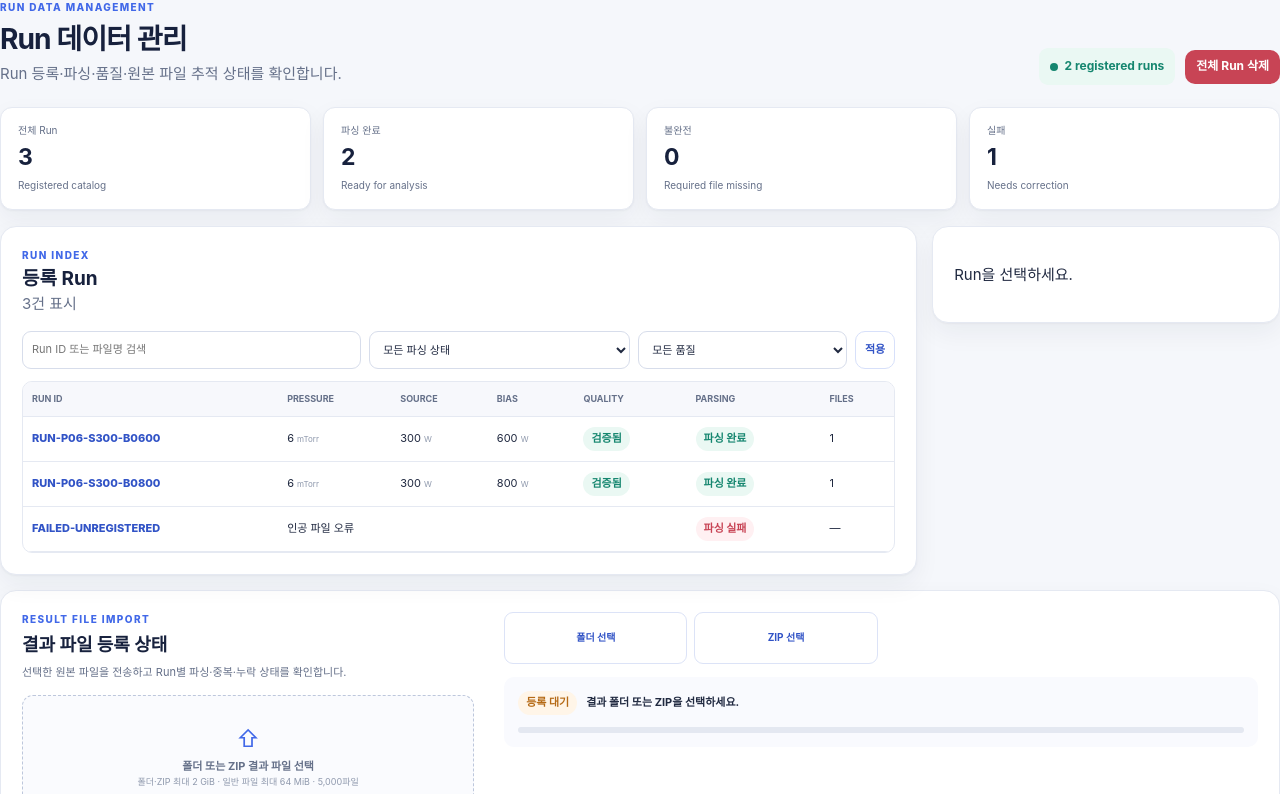
Test case: all deletion confirms the unfiltered registered count and excludes failed unregistered jobs from its payload
Expected: the button "RUN-P06-S300-B0600" is shown, top-left (32, 430), bottom-right (160, 447)
Type "NO-MATCH" into the field named "Run 또는 파일 검색" at {"x": 192, "y": 350}, box top-left (22, 331), bottom-right (361, 369)
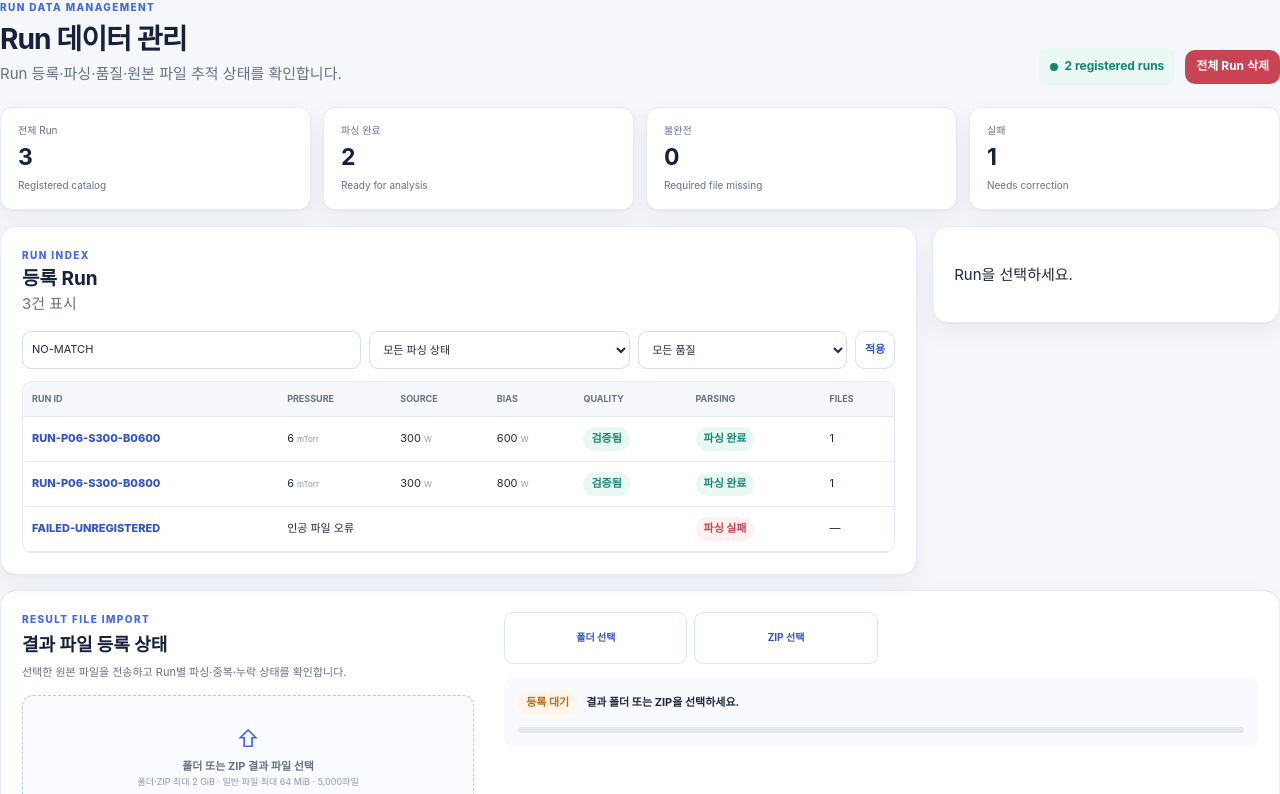
Submit the form with id "catalog-filter-form", box top-left (22, 331), bottom-right (895, 369)
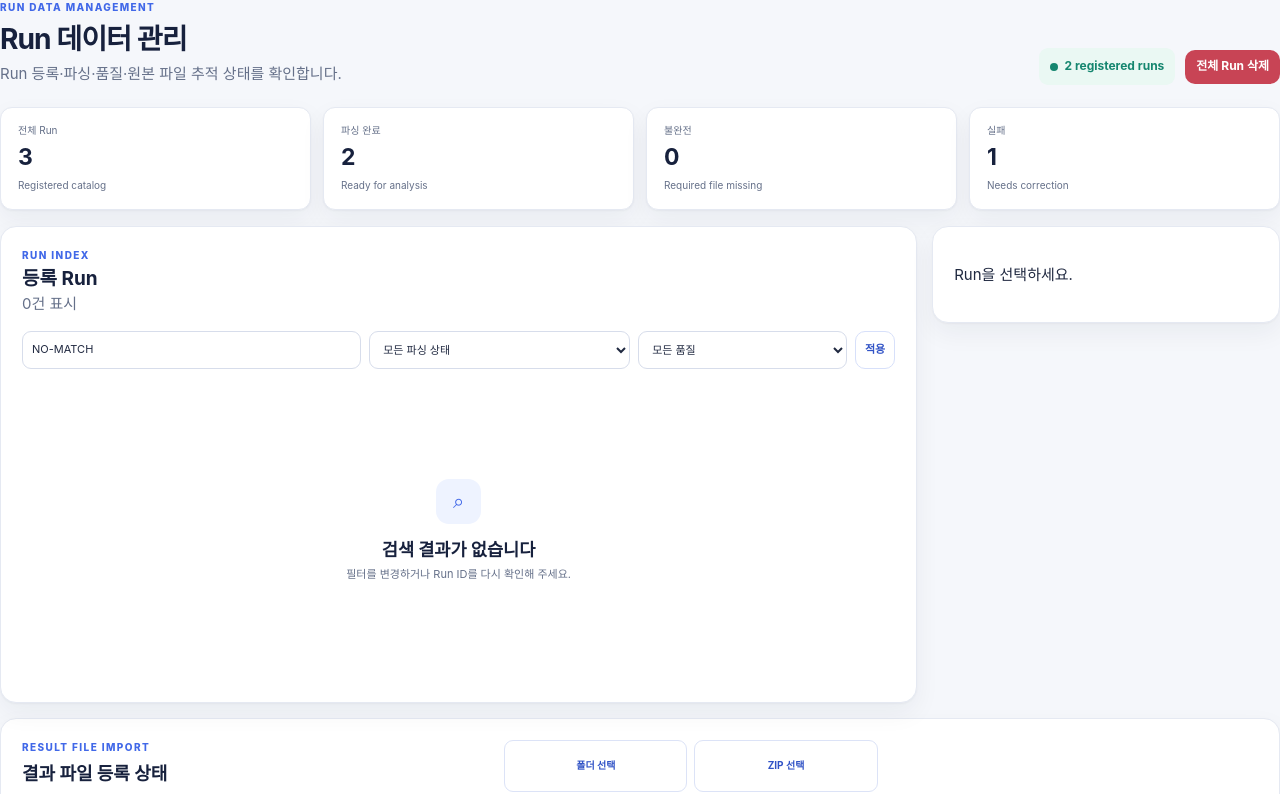
Result: the button "RUN-P06-S300-B0600" is gone
Click the button "전체 Run 삭제" at {"x": 1233, "y": 67}, box top-left (1185, 50), bottom-right (1279, 84)
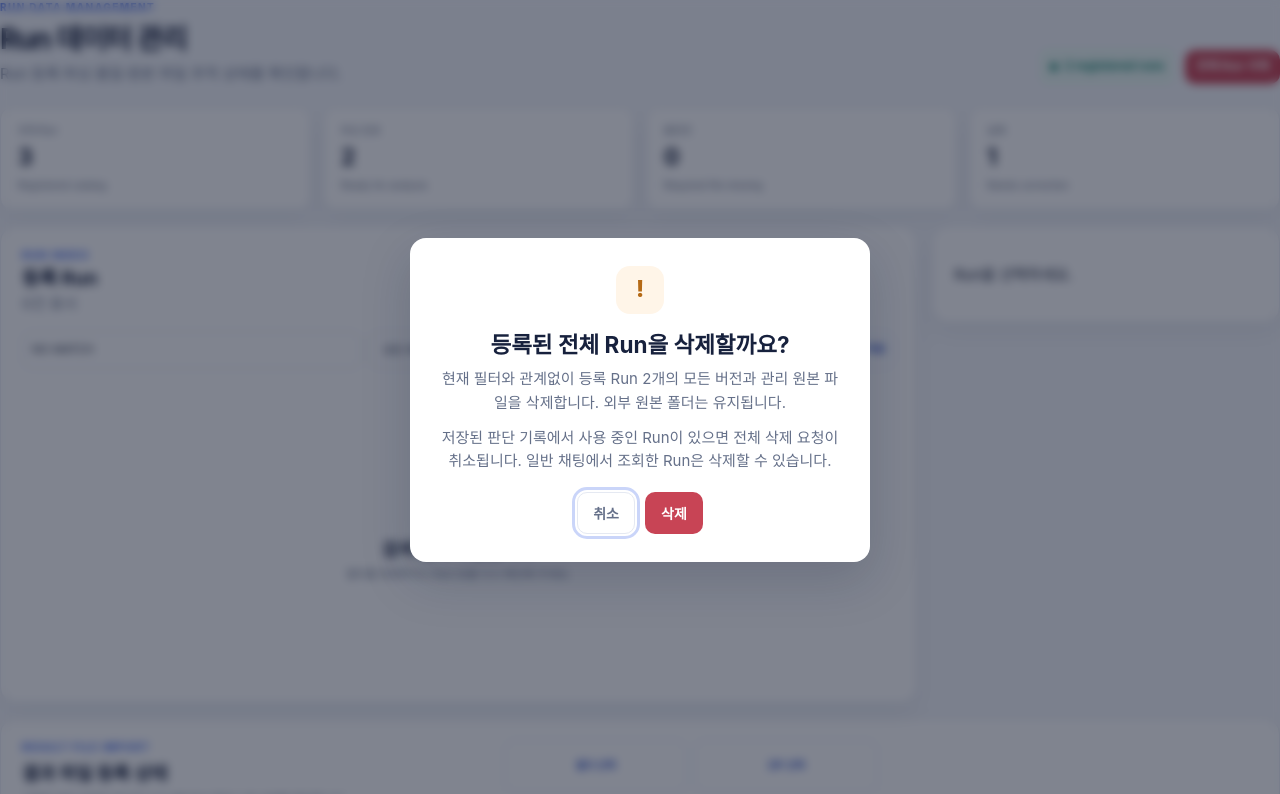
Click the button "삭제" at {"x": 674, "y": 513}, box top-left (645, 492), bottom-right (703, 534)
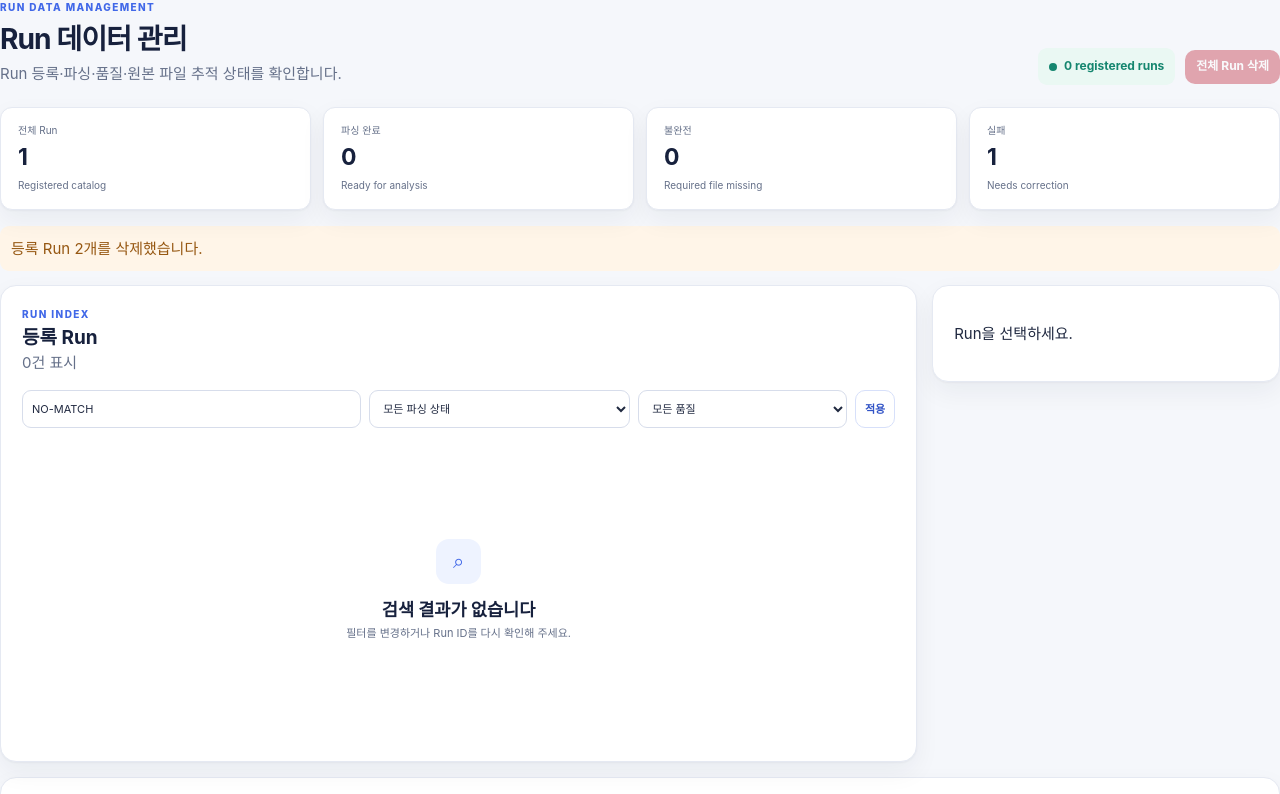
Result: the dialog is gone
Clear the field named "Run 또는 파일 검색" at {"x": 192, "y": 409}, box top-left (22, 390), bottom-right (361, 428)
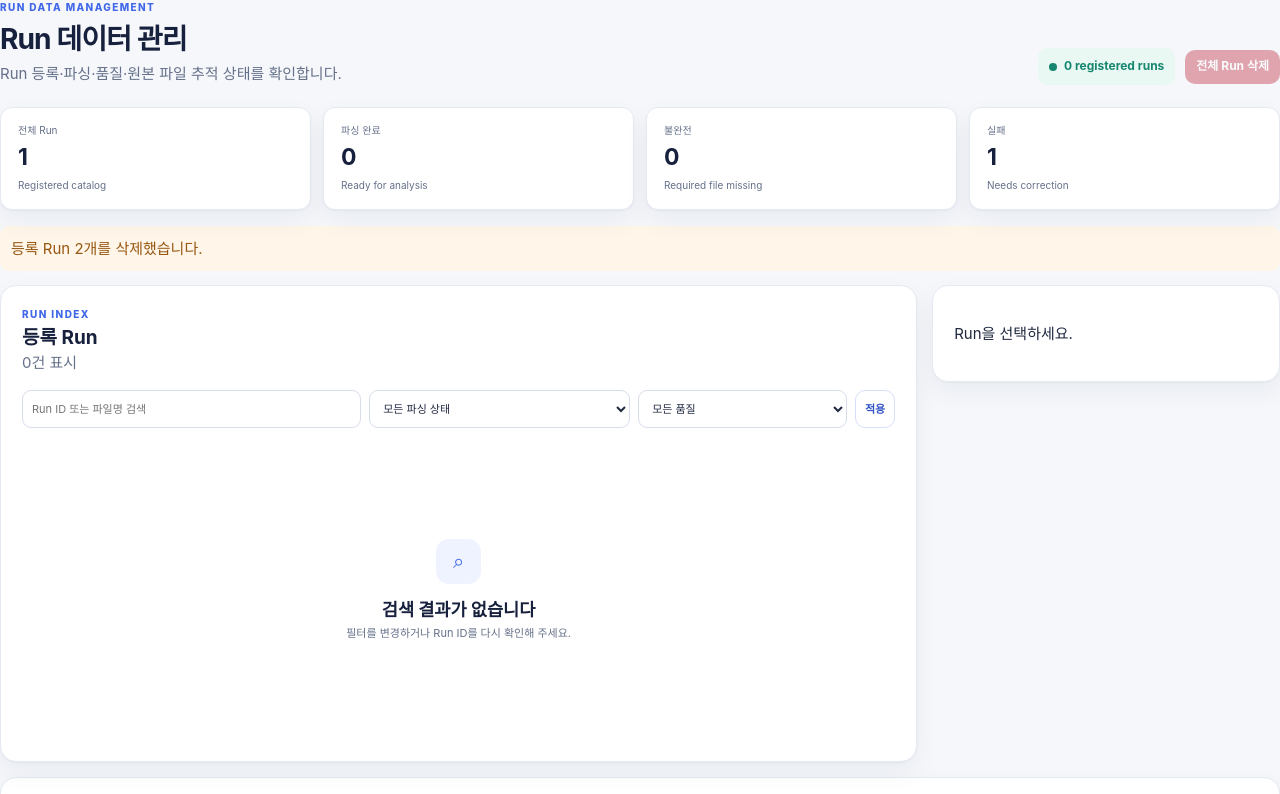
Submit the form with id "catalog-filter-form", box top-left (22, 390), bottom-right (895, 428)
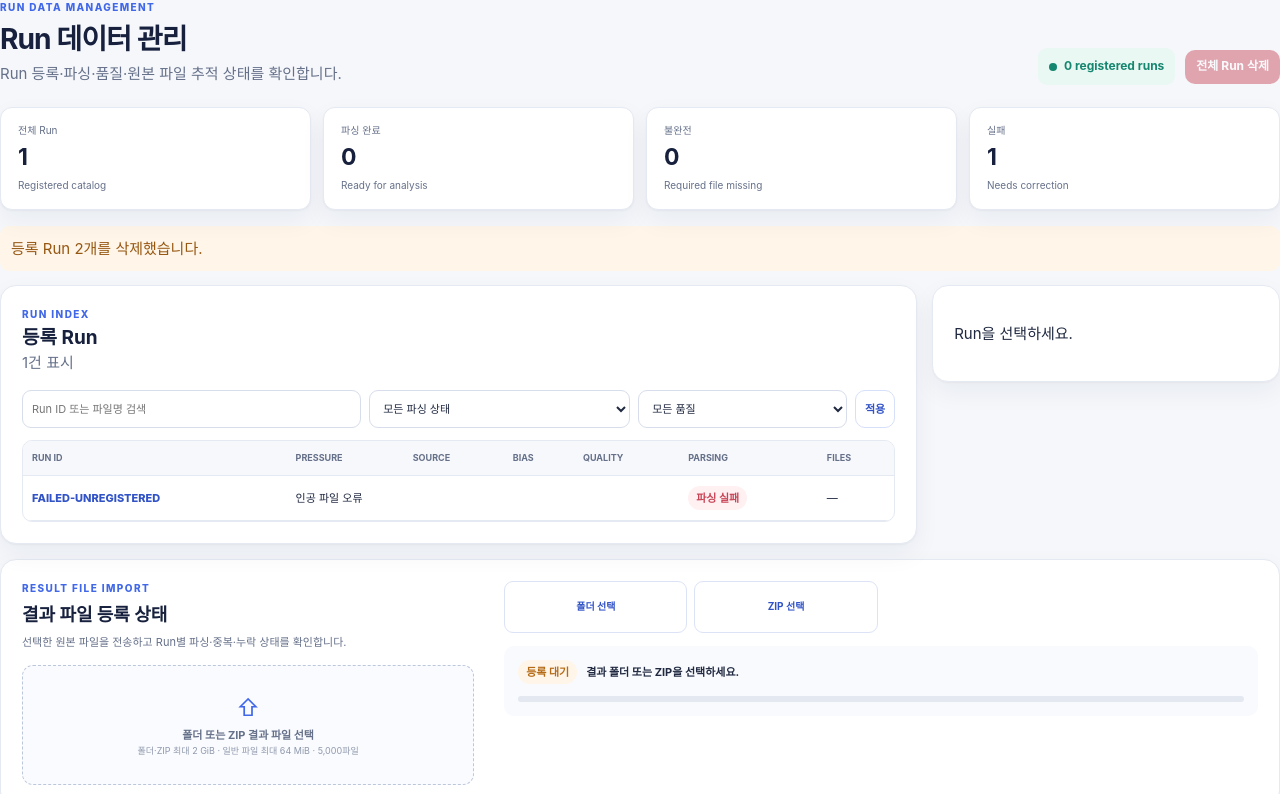
Result: the button "전체 Run 삭제" is disabled at top-left (1185, 50), bottom-right (1279, 84)
Result: the button "FAILED-UNREGISTERED" is shown at top-left (32, 490), bottom-right (160, 507)
